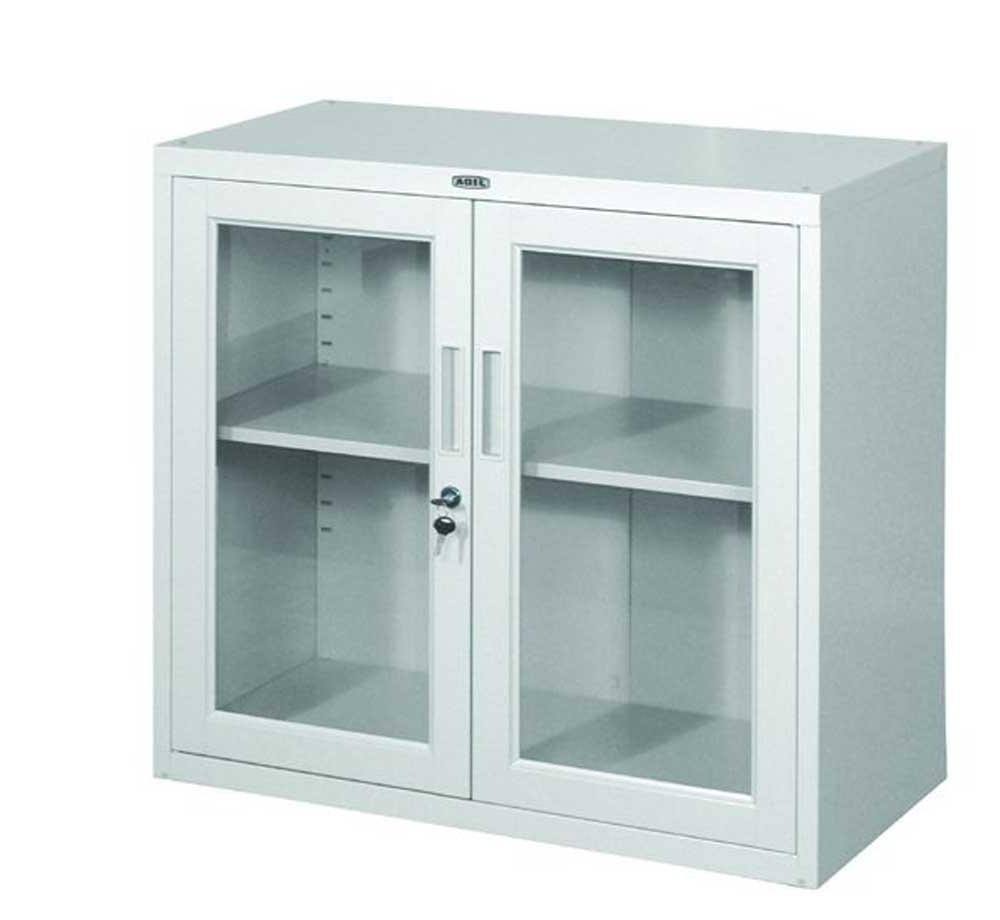cabinet_door: (477, 219, 801, 825), (164, 191, 465, 773)
handle: (472, 345, 502, 462), (436, 342, 465, 453)
